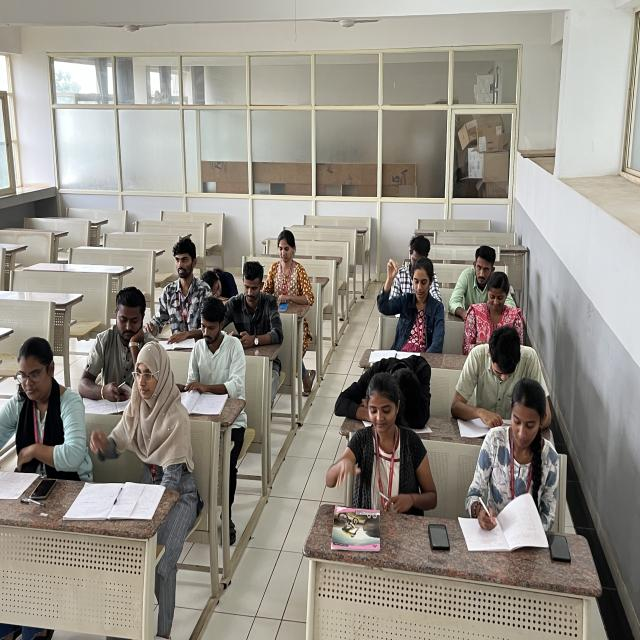Hand Rising: (370, 258, 449, 352)
Reading: (456, 328, 549, 435), (177, 300, 247, 410)
Sleeping: (337, 346, 438, 430), (200, 259, 242, 305)
Using Phone: (74, 286, 155, 398), (230, 255, 288, 342)
Writing: (463, 387, 575, 532)
